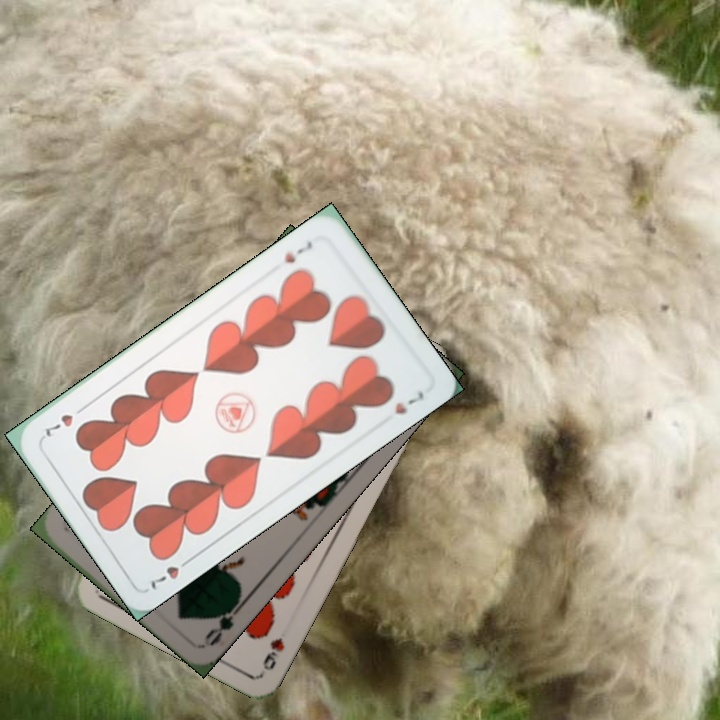GO: (200, 596, 247, 649)
H7: (146, 552, 196, 593), (280, 237, 315, 266)
H9: (258, 633, 287, 674)
